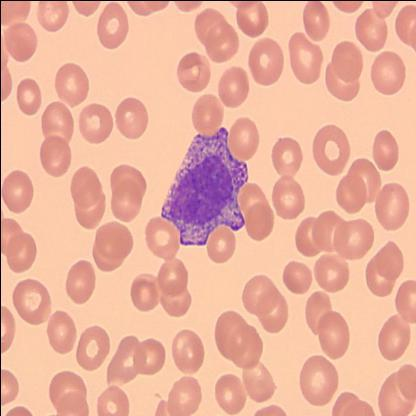Promyelocyte: (160, 128, 248, 248)
